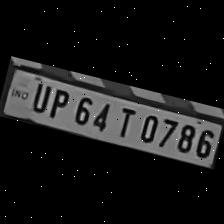0: (132, 107, 162, 145)
4: (88, 95, 116, 132)
6: (190, 121, 218, 159), (67, 89, 95, 126)
7: (153, 111, 180, 150)
8: (171, 116, 198, 154)
P: (44, 82, 72, 120)
T: (108, 100, 140, 139)
U: (25, 77, 53, 113)
